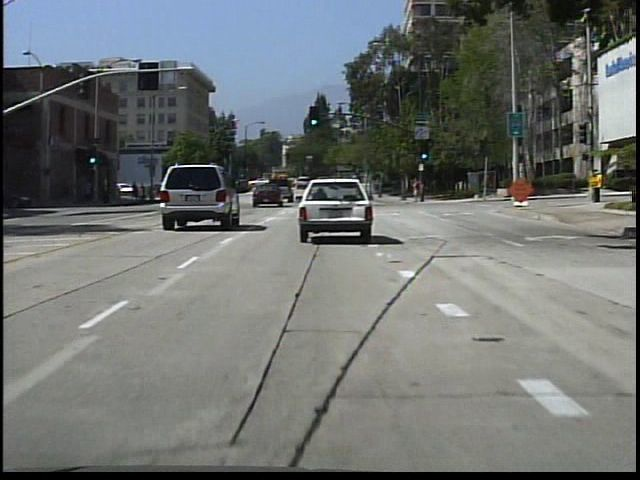person: (409, 174, 425, 209)
